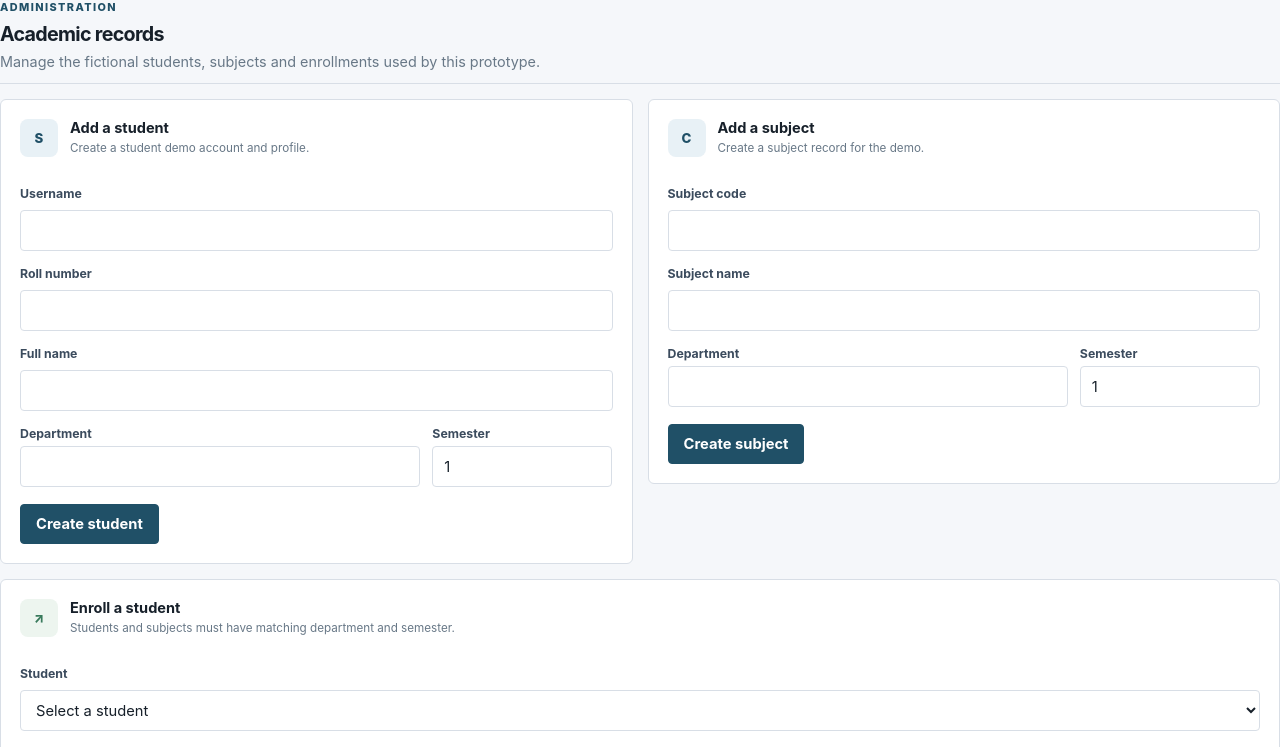
Test: AdminRecordManagement › surfaces backend validation errors without pretending enrollment succeeded
The image size is (1280, 747).
Select "DEMO001 · Aarav Rao" in the dropdown labelled "Student" at (640, 711), box [20,690,1260,731]
(page scrolled)
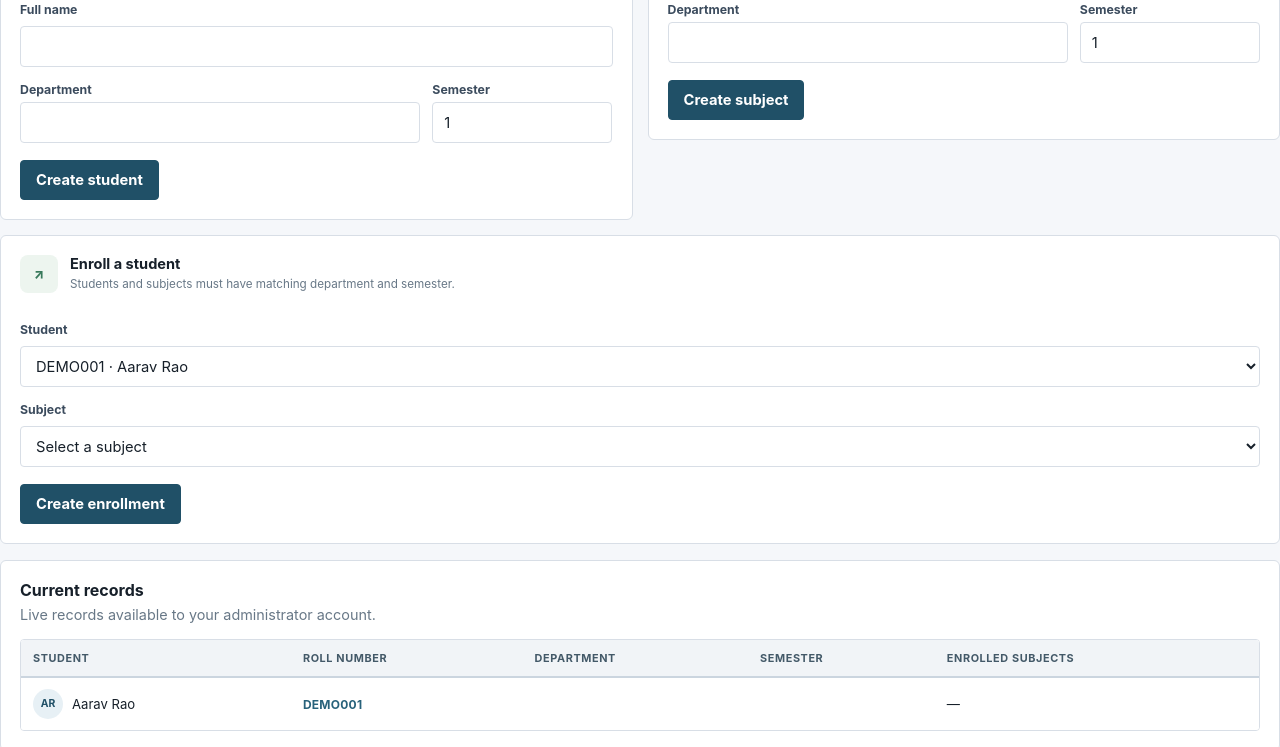
Select "CS301 · Data Structures" in the dropdown labelled "Subject" at (640, 447), box [20,426,1260,467]
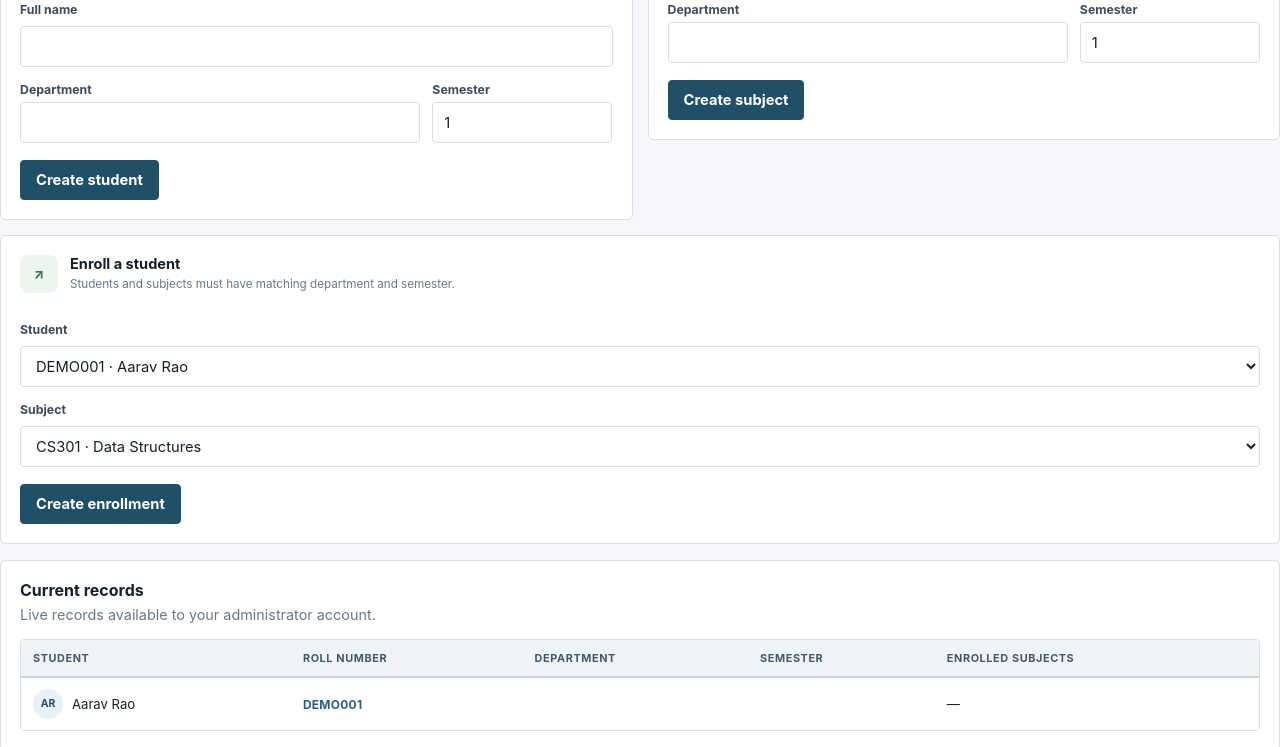
Click the button "Create enrollment" at (100, 504), box [20,484,181,524]
(page scrolled)
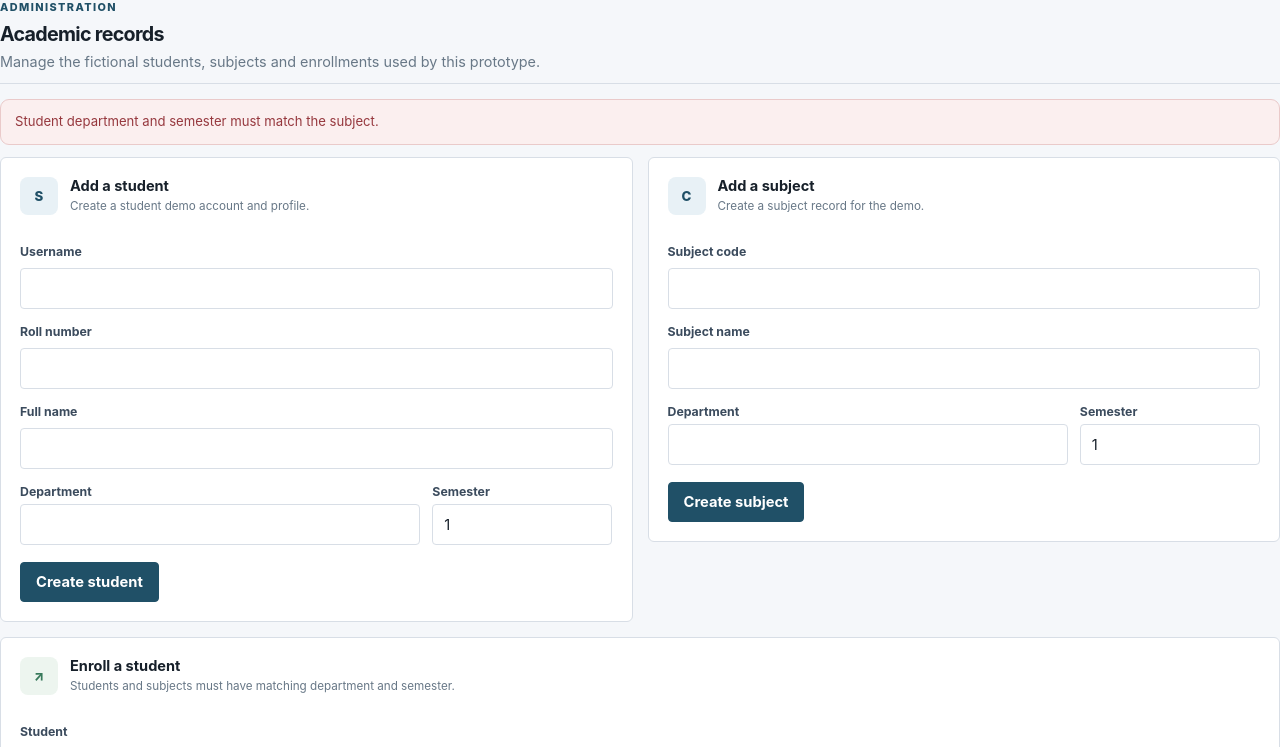
Now the message reads "Student department and semester must match the subject.", box [15,113,379,129]
